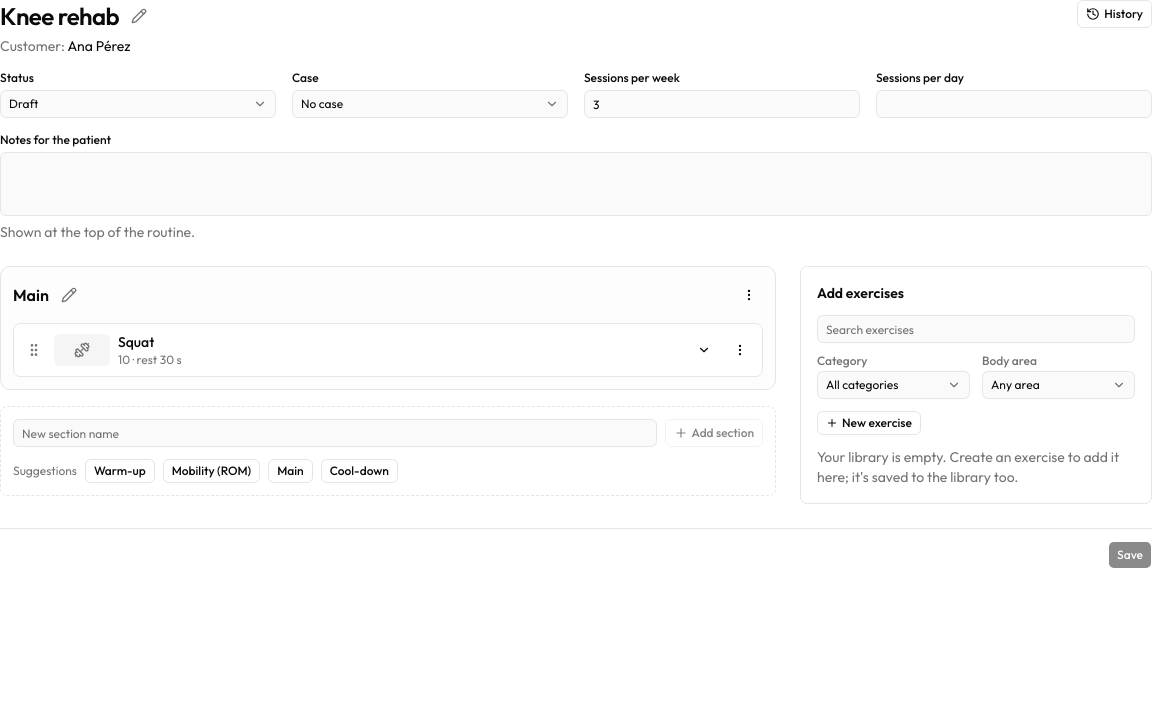
Test: RoutineEditor › creating an exercise from the picker › adds it as a new row from the side panel's dialog
Click the button "New exercise" at [869, 423], box [817,411,921,435]
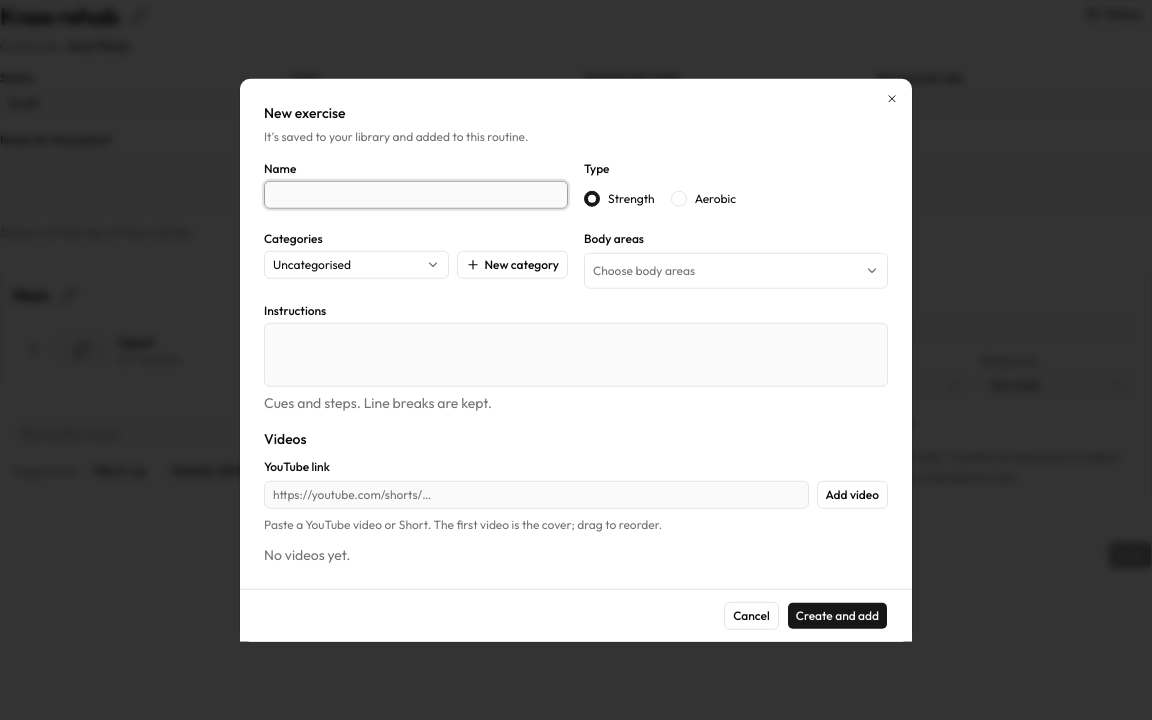
Type "Wall sit" into the field labelled "Name" at [416, 194], box [264,180,568,208]
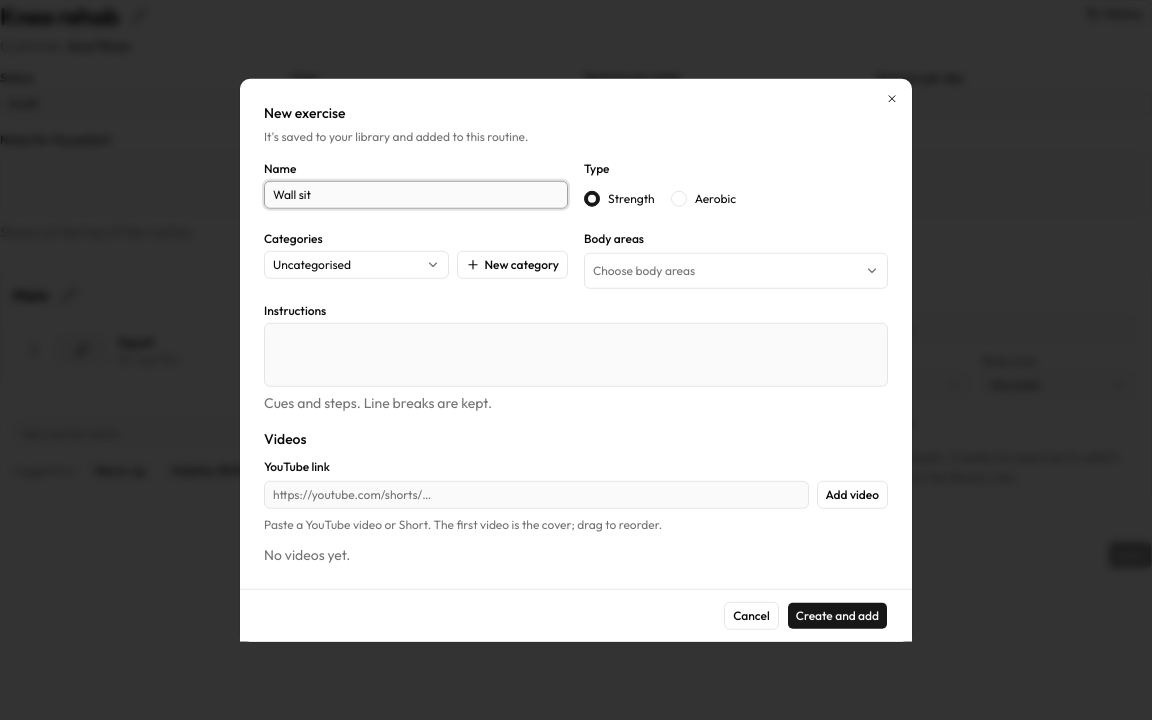
Click the button "Create and add" at [837, 615], box [787,601,888,629]
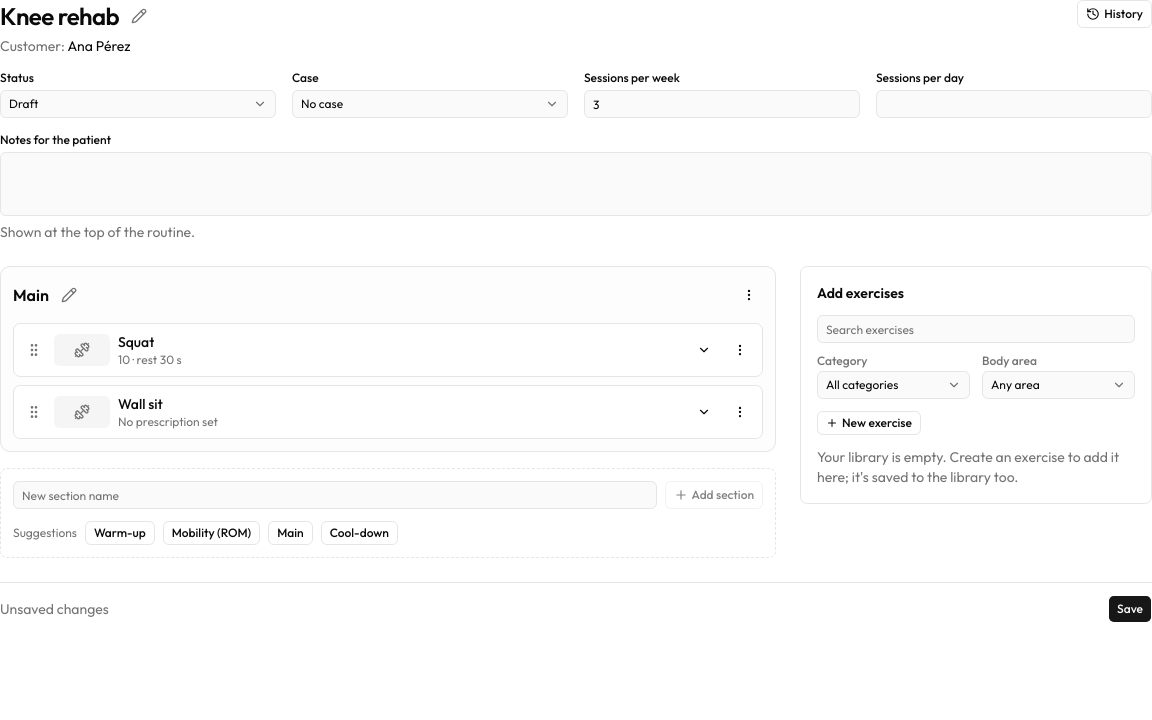
Expected: the dialog is gone
Expected: the number of elements with test id "item-row" is 2, [13,323,763,377]; [13,385,763,439]
Expected: the element with test id "item-row" shows "Wall sit", [118,395,163,413]
